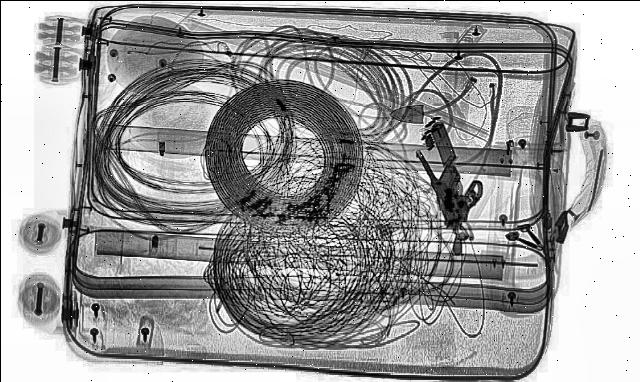Gun: (392, 140, 502, 228)
